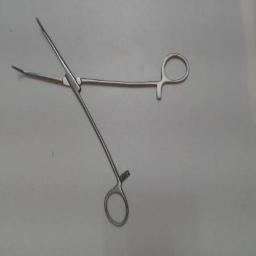Lahey Forceps: (8, 8, 196, 234)
